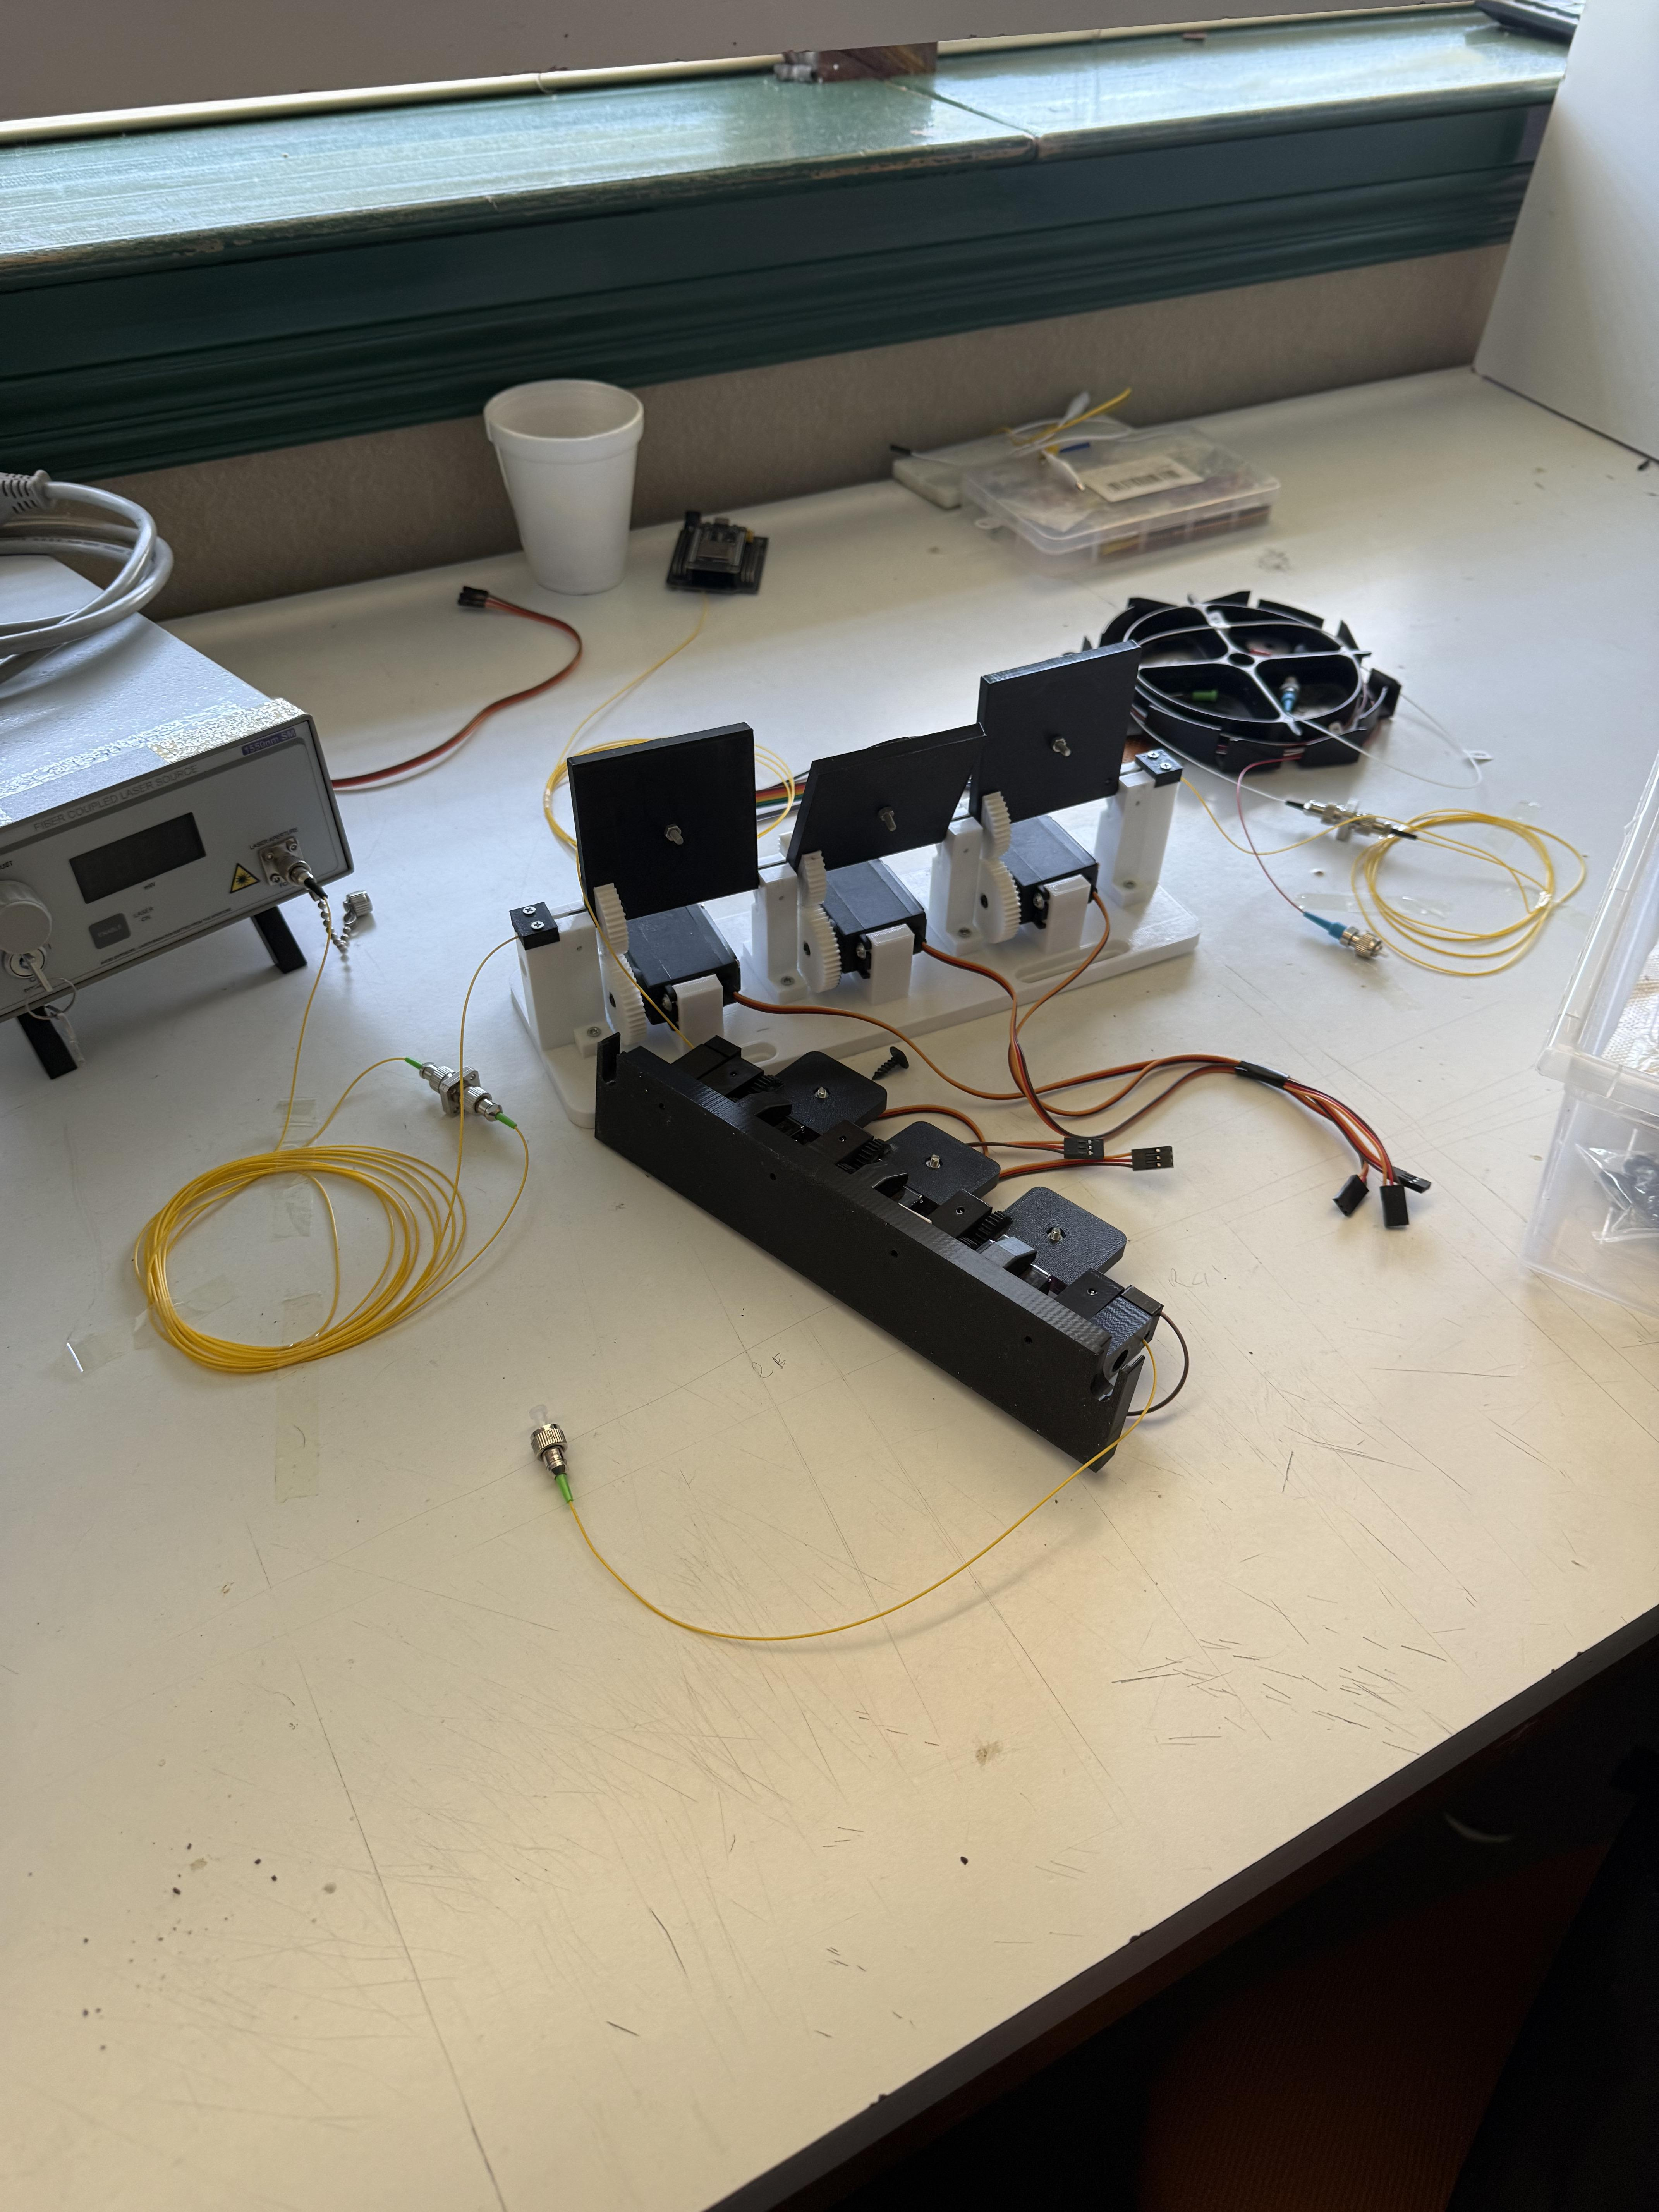paddle_polarization_controller: (551, 930, 1305, 1595), (472, 627, 1232, 1134)
